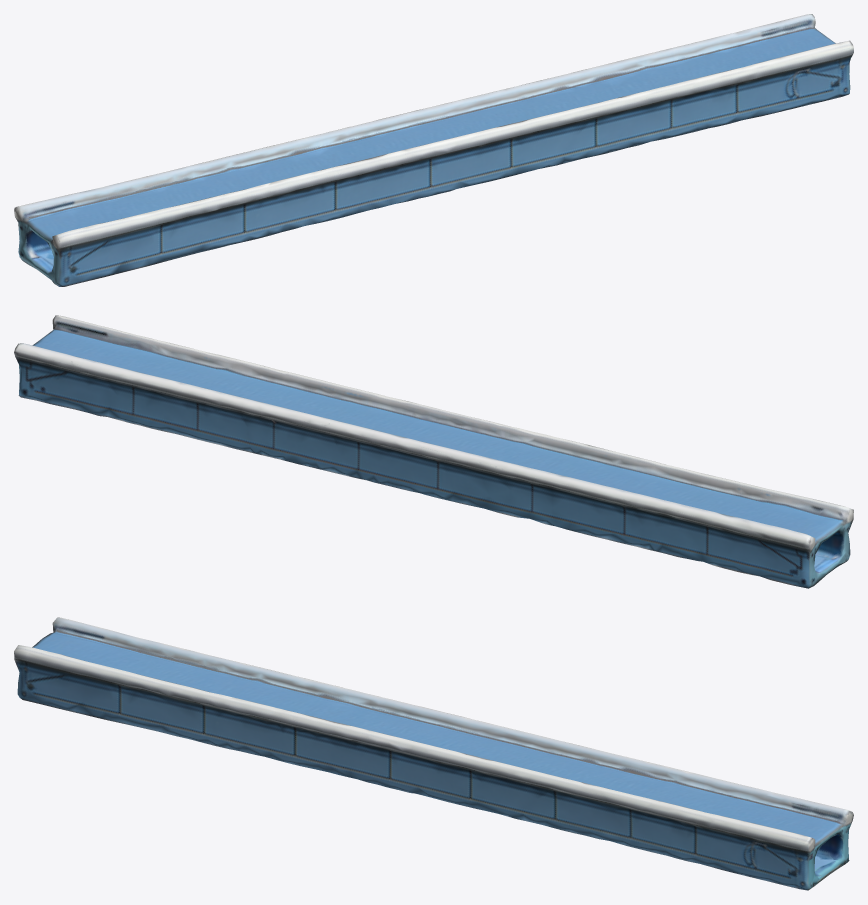
File: 롯데_모노빔.glb
3 views of the same model, one above another, from view 1: azimuth 30°, elevation 25°; view 2: azimuth 150°, elevation 25°; view 3: azimuth 330°, elevation 25° (orthographic).
Visible parts, largest first — view 1: texture_mapping; view 2: texture_mapping; view 3: texture_mapping.
Boxes of the visible parts, x1,y1,x2,y2 form: texture_mapping: (14,14,853,286); texture_mapping: (14,315,853,588); texture_mapping: (14,617,853,890).
Bounding box in the file's own units: 1 × 0.0645 × 0.1012.
1 material, 1 textured.
